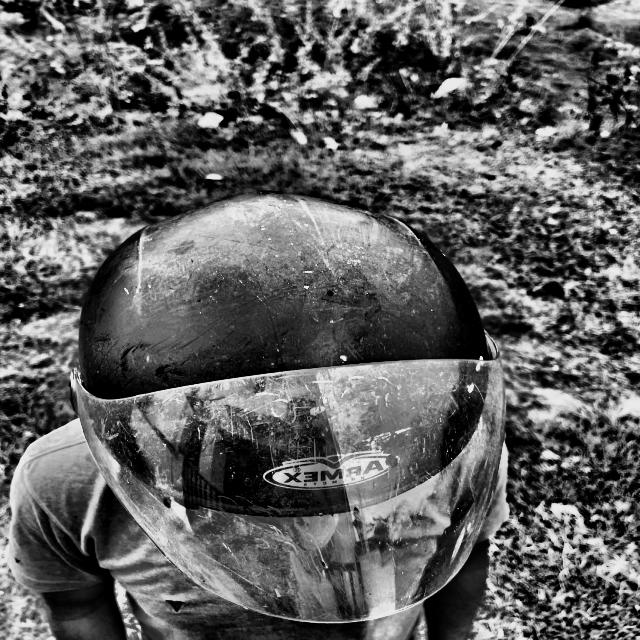Helmet: (58, 182, 514, 630)
